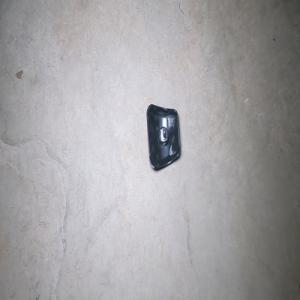LuggagePart: (145, 103, 180, 171)
